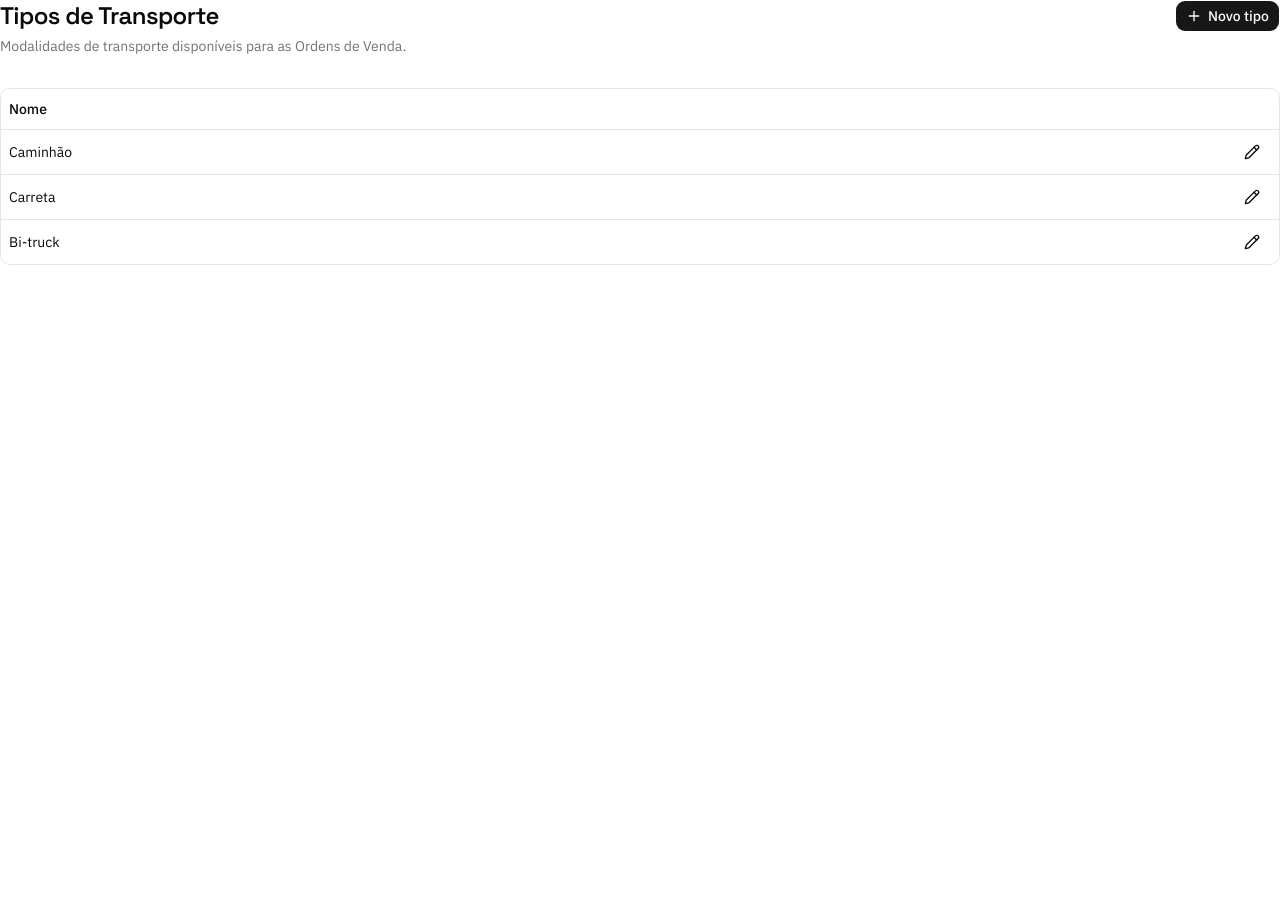
Test case: TransportTypesView (integração) › mostra erro e mantém o diálogo aberto quando o salvamento falha
Check: the text "Caminhão" is shown, box [1,129,1215,174]
Click the button "Novo tipo" at (1228, 16), box [1175,0,1279,32]
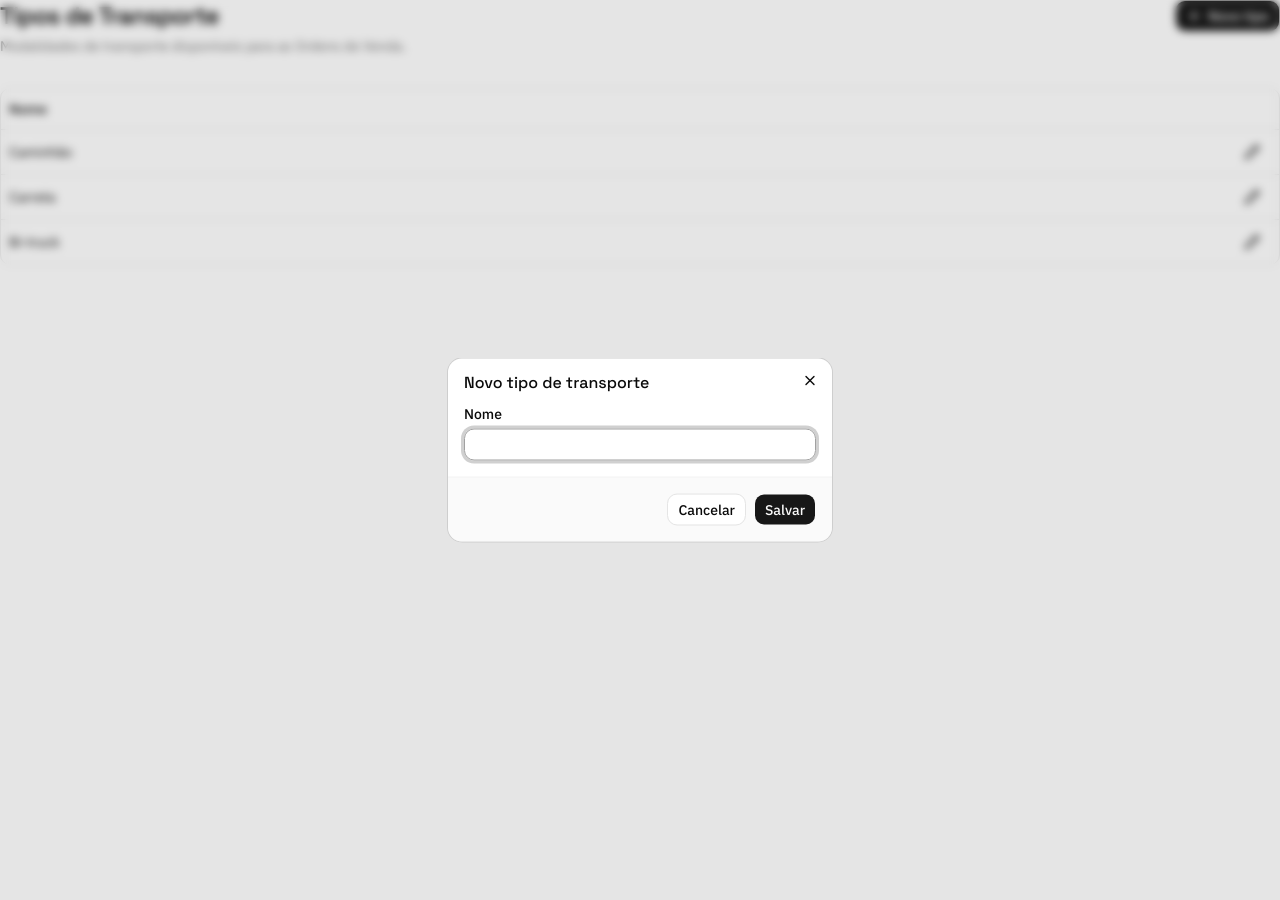
Type "Carreta" into the field labelled "Nome" at (640, 444), box [464,428,816,460]
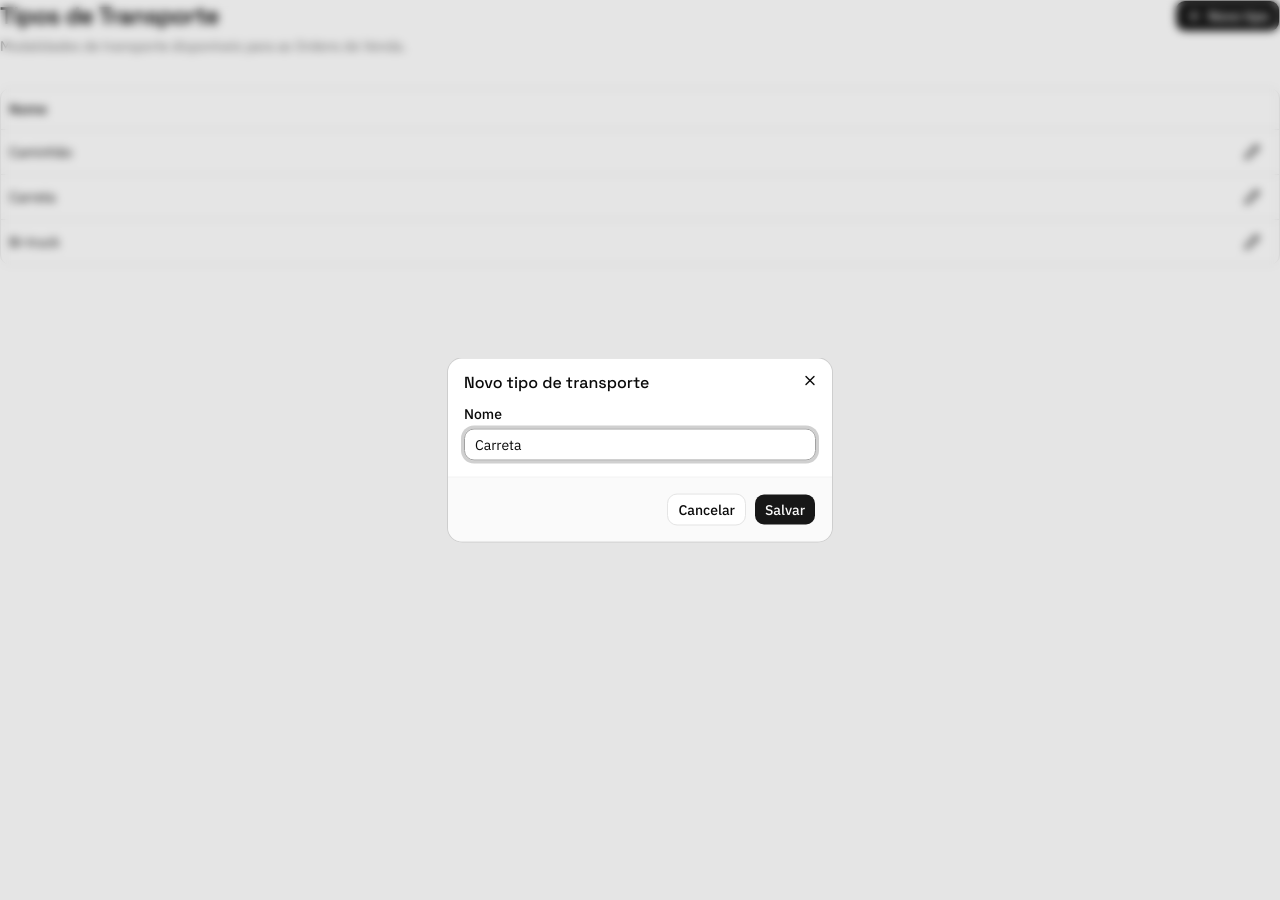
Click the button "Salvar" at (785, 510), box [754,494,816,526]
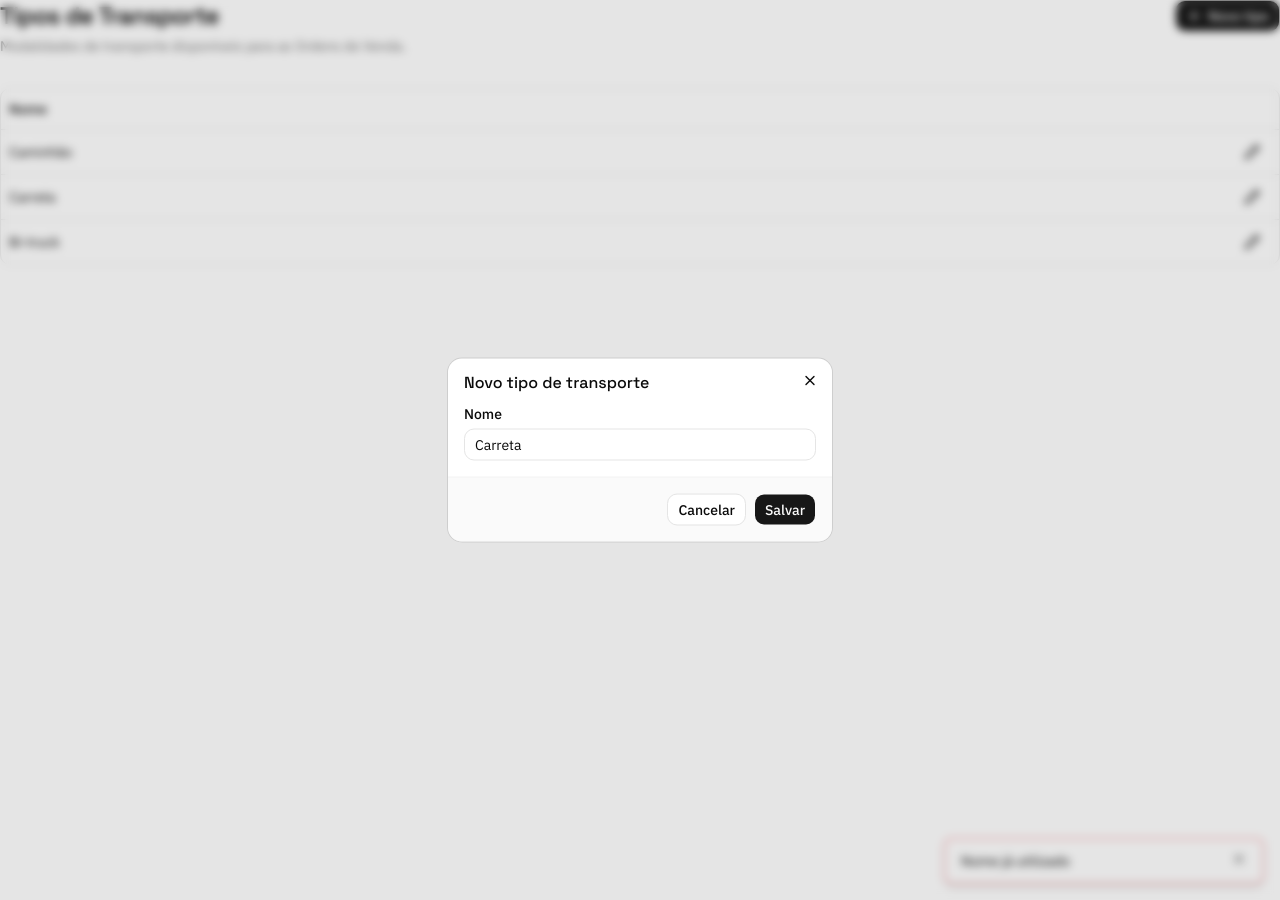
Check: the dialog is shown, box [448,358,832,542]
Check: the text "Nome já utilizado" is shown, box [961,852,1070,870]
